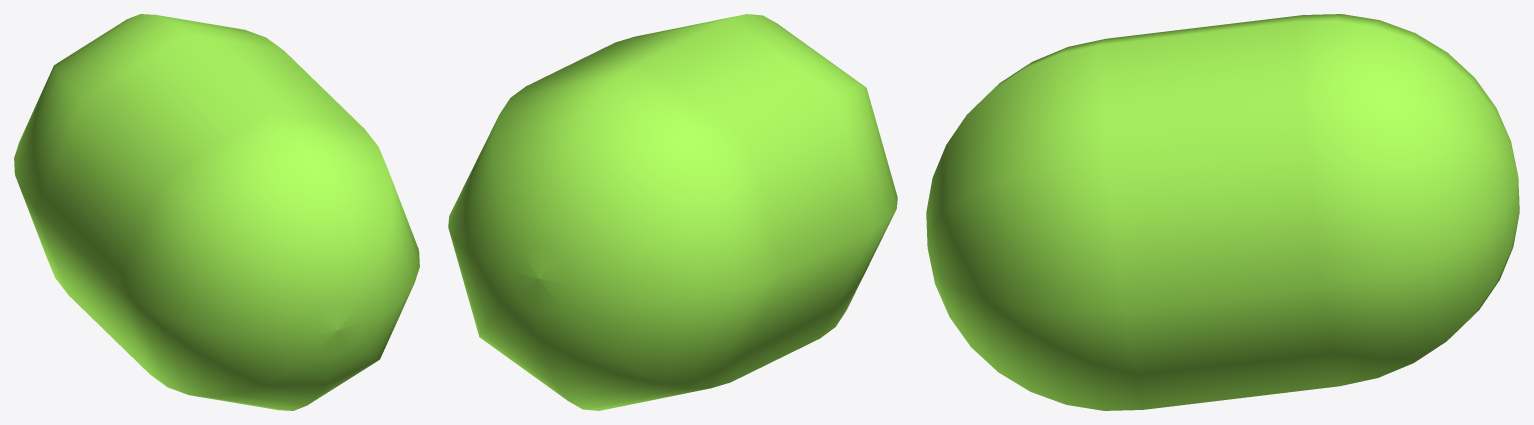
Rendered from teste3.gltf.
3 views of the same model, side by side, from view 1: azimuth 30°, elevation 25°; view 2: azimuth 150°, elevation 25°; view 3: azimuth 270°, elevation 25° (orthographic). The views are drawn at different scales.
Parts seen in each view (by area): view 1: Capsule; view 2: Capsule; view 3: Capsule.
Boxes of the visible parts, x1,y1,x2,y2 form: Capsule: [14, 14, 419, 410]; Capsule: [448, 14, 897, 410]; Capsule: [926, 14, 1519, 410].
Size of the model in its own units: 2 by 2.13 by 2.99.
